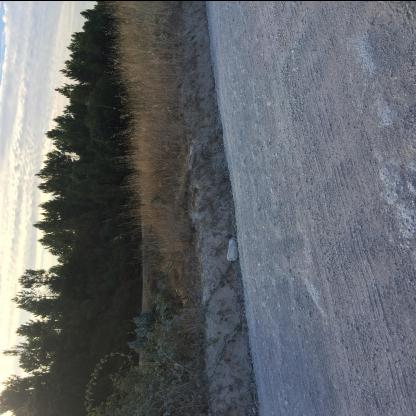plastik: (226, 236, 238, 260)
